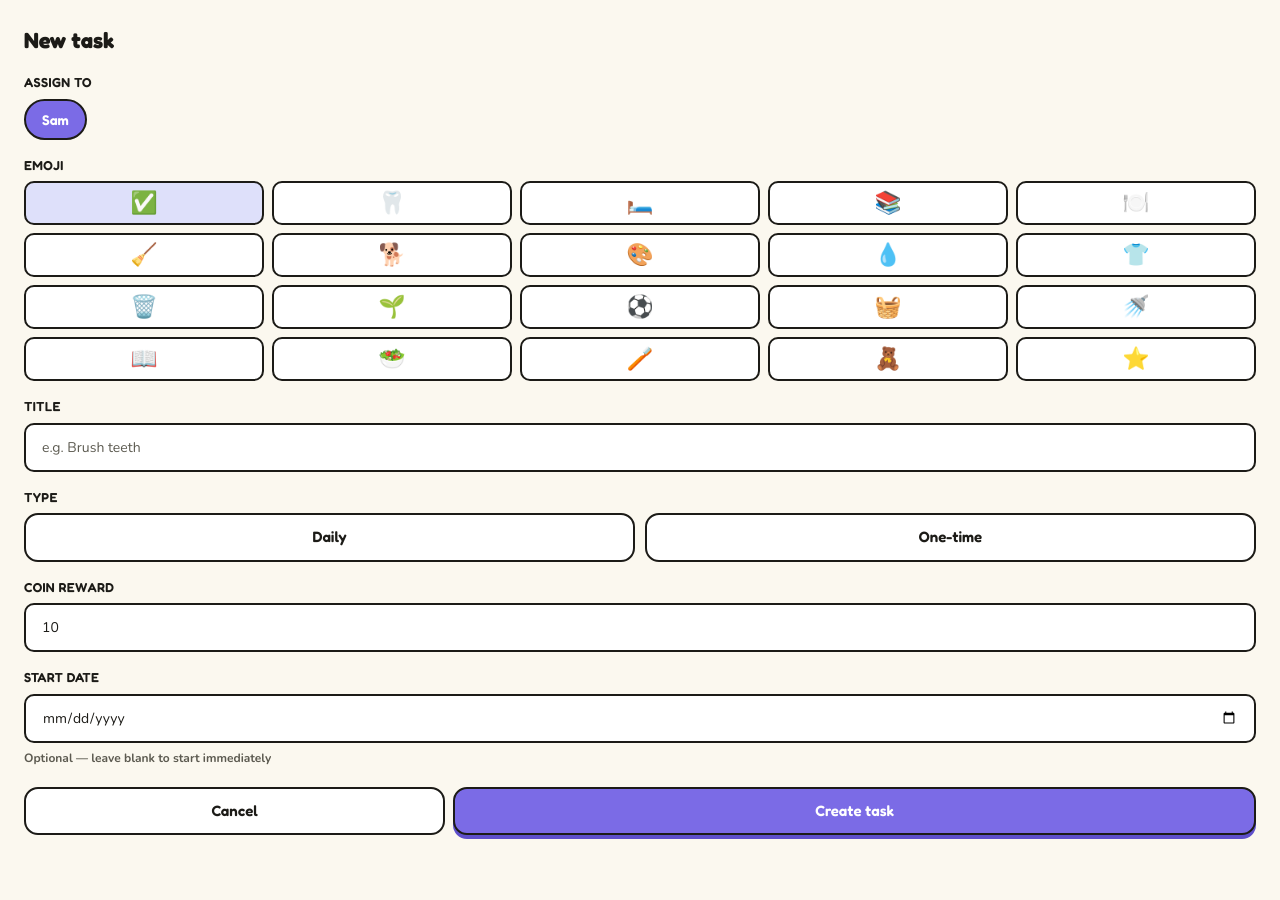
Test case: TaskForm › blocks submit when title is empty
Click the button "Create task". click: {"x": 855, "y": 811}
box: x1=453 y1=786 x2=1256 y2=835
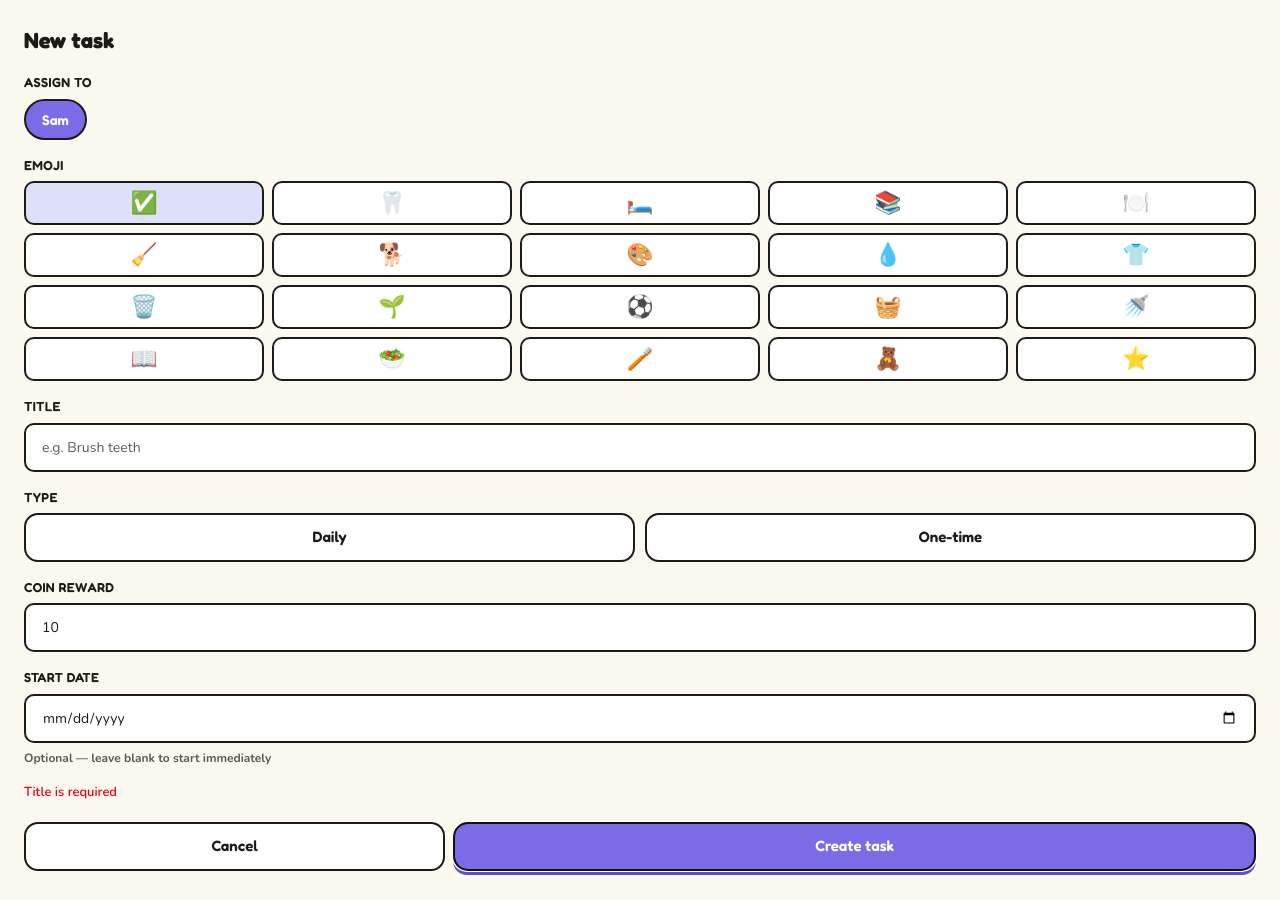
Expected: the message reads "Title is required", x1=24 y1=782 x2=117 y2=800
